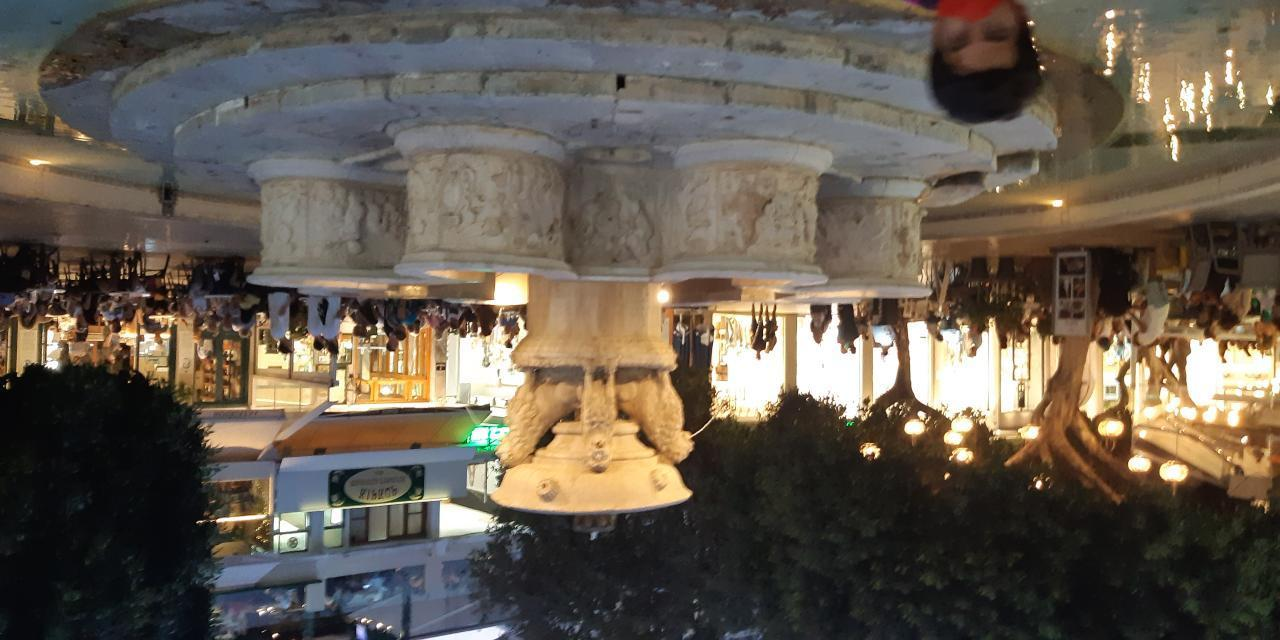Liontaria: (253, 137, 939, 520)
